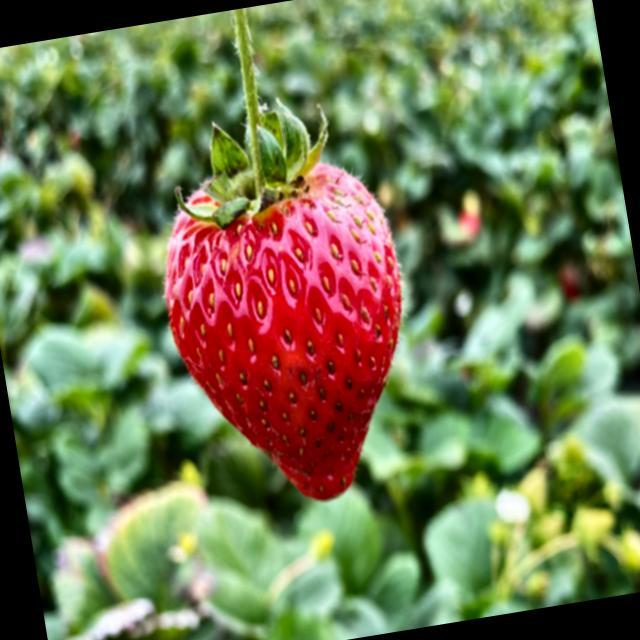strawberry: (165, 11, 401, 499)
